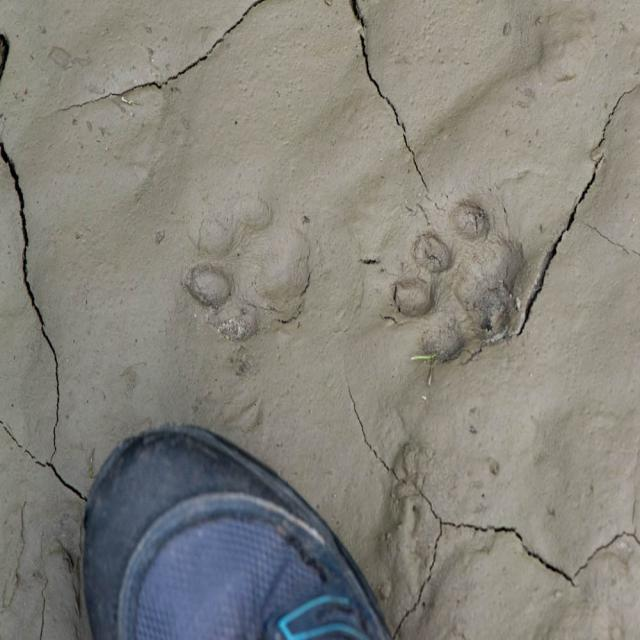felid: (396, 196, 522, 362), (197, 193, 309, 336)
